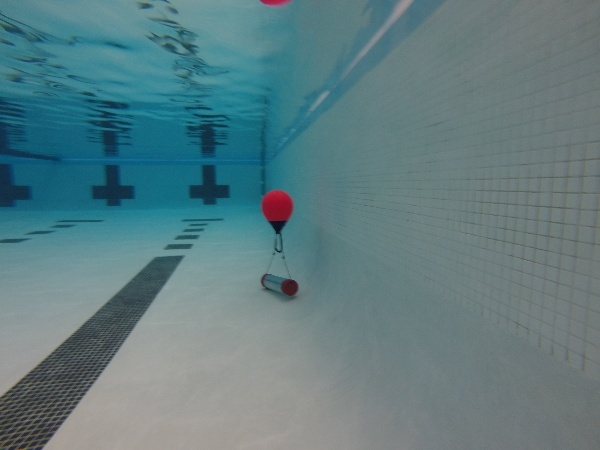buoy_red: (260, 188, 295, 234)
